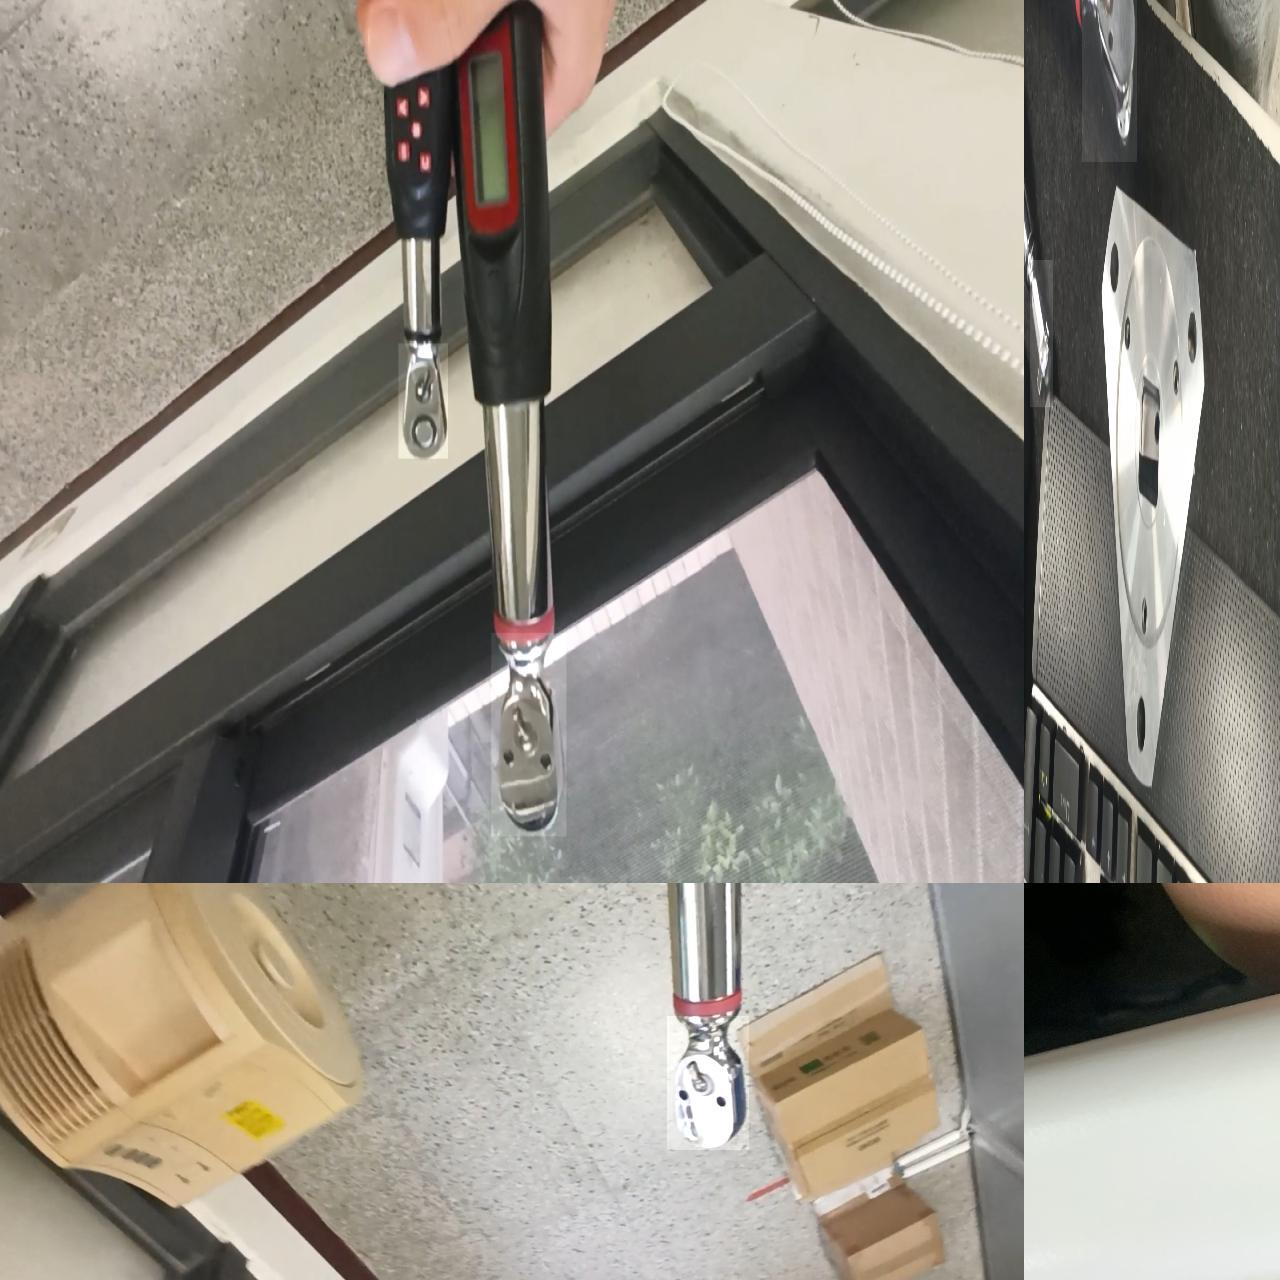Tool: (492, 632, 566, 836), (667, 1016, 749, 1150), (1082, 0, 1136, 162), (398, 343, 448, 459), (1030, 260, 1053, 407)
